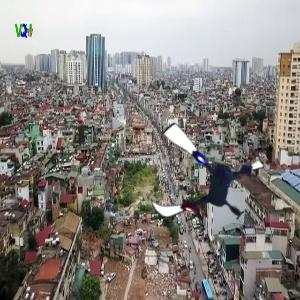drone: (141, 119, 264, 242)
